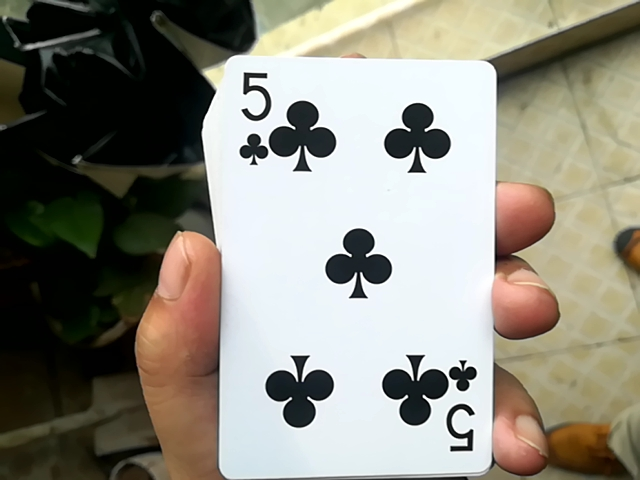mh 5: (197, 45, 496, 471)
